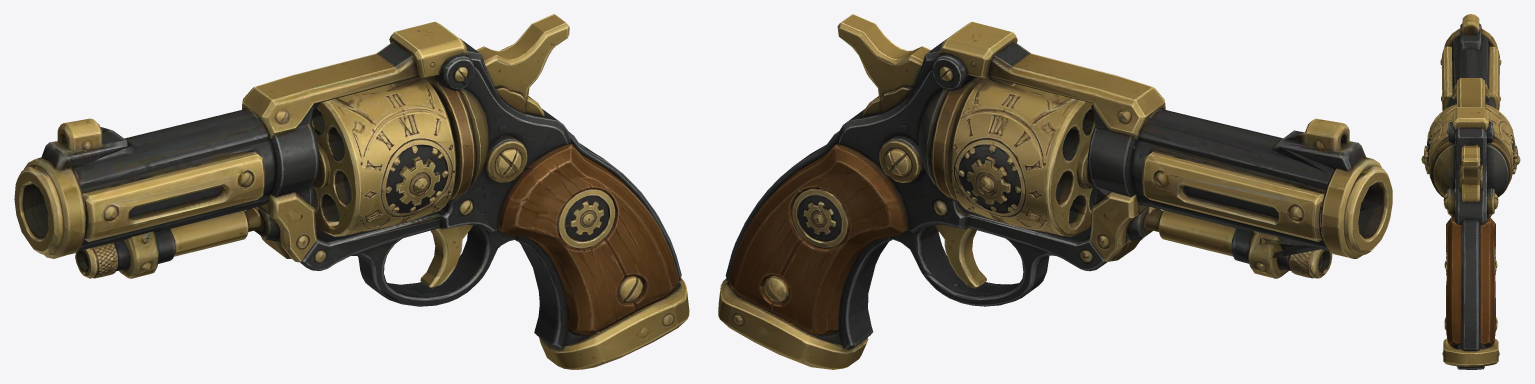
The model's file is weapon_pistol.glb.
3 views of the same model, side by side, from view 1: azimuth 30°, elevation 25°; view 2: azimuth 150°, elevation 25°; view 3: azimuth 270°, elevation 25° (orthographic). The views are drawn at different scales.
Parts seen in each view (by area): view 1: output_unwrapped; view 2: output_unwrapped; view 3: output_unwrapped.
Part boxes in pixels (<box>): output_unwrapped: <box>14,14,689,369</box>; output_unwrapped: <box>718,14,1392,369</box>; output_unwrapped: <box>1421,14,1520,369</box>.
Bounding box in the file's own units: 1.9 × 1.01 × 0.4455.
Materials: 1 (1 with a texture image).
